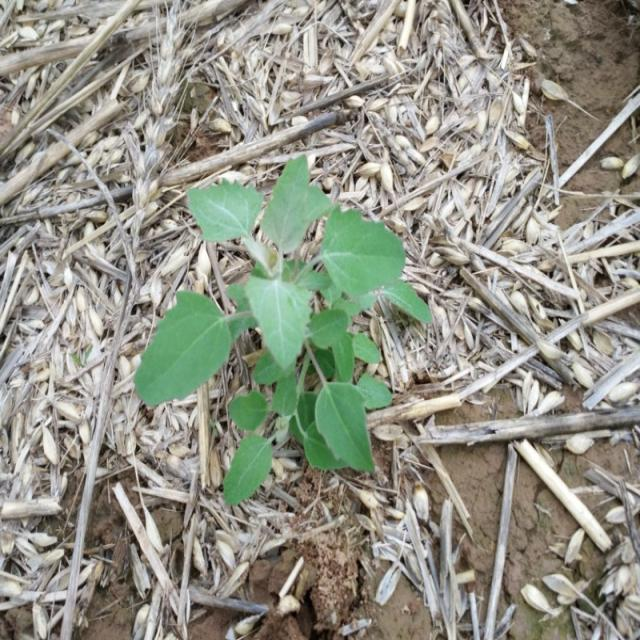goosefoots: (126, 157, 418, 492)
